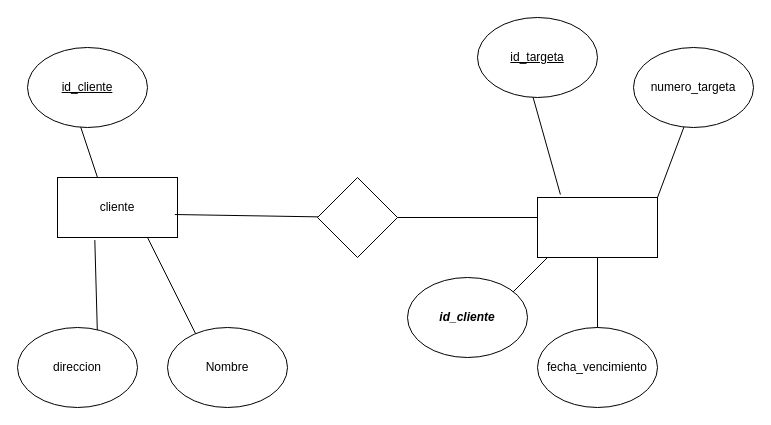
This 771x425 diagram has some shape labels left out. Each missing label, with the box of its shape:
targeta_credito: (536, 196, 658, 258)
tiene: (316, 176, 398, 258)
